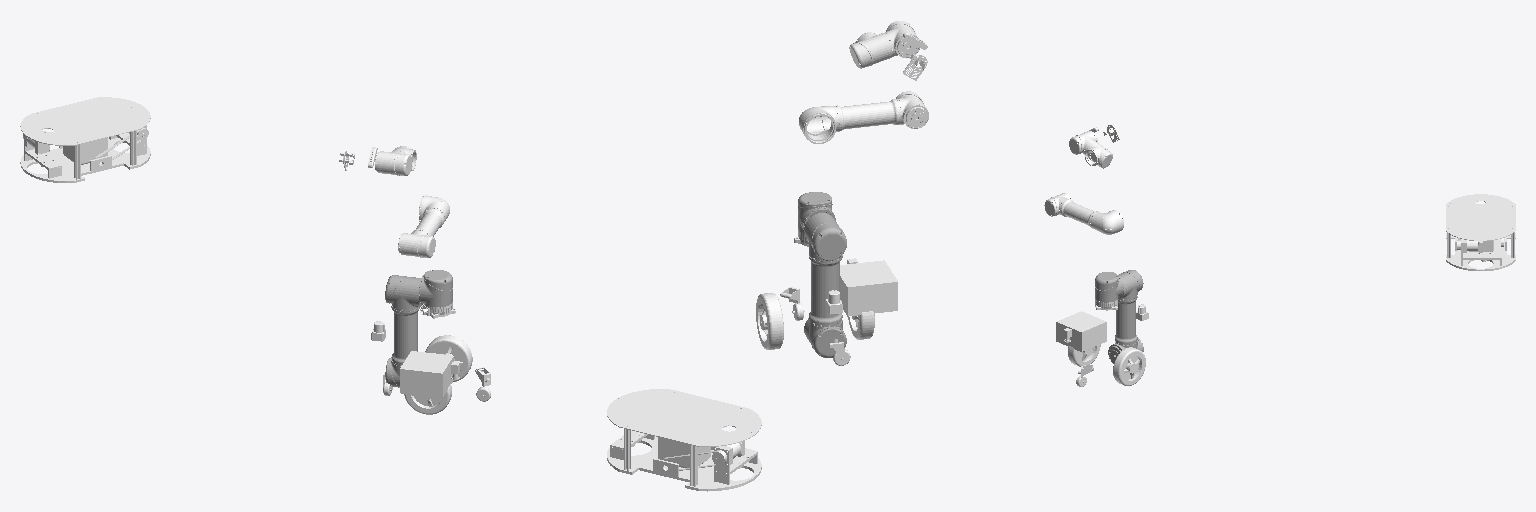
--- Render facts (derived) ---
Views: 3 orthographic renders of the robot side by side, from view 1: azimuth 30°, elevation 25°; view 2: azimuth 150°, elevation 25°; view 3: azimuth 270°, elevation 25°.
Robot: test_model — 31 links, 30 joints (12 revolute, 2 prismatic, 16 fixed); root link virtual_link; default pose: every joint at zero.
Visible links, largest first — view 1: base_link, link2, pc_link, link3, link1, right_link, link5, left_link; view 2: base_link, link2, link3, pc_link, right_link, link4, link1, link5, left_link; view 3: base_link, link2, link3, pc_link, right_link, link1, link4.
Boxes of the visible links, left/top/right/bottom form: base_link: left=20, top=97, right=150, bottom=182; link2: left=385, top=275, right=422, bottom=387; pc_link: left=400, top=351, right=453, bottom=397; link3: left=398, top=195, right=449, bottom=257; link1: left=419, top=270, right=452, bottom=314; right_link: left=425, top=335, right=472, bottom=381; link5: left=375, top=151, right=411, bottom=175; left_link: left=404, top=384, right=451, bottom=414; base_link: left=607, top=389, right=761, bottom=491; link2: left=804, top=213, right=846, bottom=357; link3: left=799, top=91, right=928, bottom=143; pc_link: left=840, top=260, right=897, bottom=316; right_link: left=756, top=293, right=783, bottom=349; link4: left=849, top=32, right=892, bottom=68; link1: left=798, top=192, right=835, bottom=243; link5: left=885, top=21, right=919, bottom=57; left_link: left=848, top=311, right=874, bottom=339; base_link: left=1446, top=194, right=1515, bottom=270; link2: left=1108, top=270, right=1143, bottom=363; link3: left=1044, top=193, right=1123, bottom=234; pc_link: left=1056, top=311, right=1106, bottom=351; right_link: left=1113, top=347, right=1145, bottom=385; link1: left=1095, top=272, right=1123, bottom=308; link4: left=1084, top=141, right=1112, bottom=168.
Size in the robot's own frame: 1.04 by 2.37 by 1.22 metres.
20 mesh visuals loaded from 21 distinct referenced files (20 binary STL); not drawn: 1 (reference not matched to a file when rendering).

robot.urdf — test_model:
<?xml version="1.0" encoding="utf-8"?>
<!-- =================================================================================== -->
<!-- |    This document was autogenerated by xacro from test_agv_arm.xacro             | -->
<!-- |    EDITING THIS FILE BY HAND IS NOT RECOMMENDED                                 | -->
<!-- =================================================================================== -->
<robot name="test_model">
  <!-- T265 Fisheye:

  gazebo_ros_camera supports only plumb_bob
  D: [-0.007419134024530649, 0.041209351271390915, -0.03811917081475258, 0.006366158835589886, 0.0]

  <distortionK1>-0.007419134024530649</distortionK1>
  <distortionK2>0.041209351271390915</distortionK2>
  <distortionK3>-0.03811917081475258</distortionK3>
  <distortionT1>0.006366158835589886</distortionT1>
  <distortionT2>0.0</distortionT2>

       [fx'  0  cx' Tx]
   P = [ 0  fy' cy' Ty]
       [ 0   0   1   0]

   P : [ 285.5480041503906, 0.0, 416.00531005859375, 0.0,
         0.0, 285.3793029785156, 403.38909912109375, 0.0,
         0.0, 0.0, 1.0, 0.0 ]

  <CxPrime>416.00531005859375</CxPrime>

       [fx  0 cx]
   K = [ 0 fy cy]
       [ 0  0  1]

   K : [ 285.5480041503906, 0.0, 416.00531005859375,
         0.0, 285.3793029785156, 403.38909912109375,
         0.0, 0.0, 1.0]

  <Cx>16.00531005859375</Cx>
  <Cy>403.38909912109375</Cy>

  -->
  <!-- INTEL REALSENSE T265 -->
  <!-- INTEL REALSENSE D435 -->
  <!-- INTEL REALSENSE R200 -->
  <link name="virtual_link">
    </link>
  <joint name="virtual_joint" type="fixed">
    <origin rpy="0 0 0" xyz="0. 0. 0."/>
    <parent link="virtual_link"/>
    <child link="base_link"/>
    <axis xyz="0 0 0"/>
  </joint>
  <link name="base_link">
    <inertial>
      <origin rpy="0 0 0" xyz="0.570341970178263 -1.88528825872454 -0.303668536274056"/>
      <mass value="15.35773705728221"/>
      <inertia ixx="0.0789888195141757" ixy="0.0296735251325005" ixz="6.86804058744454E-05" iyy="0.0636306474316625" iyz="-6.67380007365903E-05" izz="0.111507797834734"/>
    </inertial>
    <visual>
      <origin rpy="0 0 0" xyz="0 0 0"/>
      <geometry>
        <mesh filename="package://agv_arm/meshes/base_link.STL"/>
      </geometry>
      <material name="">
        <color rgba="1 1 1 1"/>
      </material>
    </visual>
    <collision>
      <origin rpy="0 0 0" xyz="0 0 0"/>
      <geometry>
        <mesh filename="package://agv_arm/meshes/base_link.STL"/>
      </geometry>
    </collision>
  </link>
  <link name="left_link">
    <inertial>
      <origin rpy="0 0 0" xyz="-3.35147465335695E-11 -2.9989711491929E-08 -0.00348654259039582"/>
      <mass value="1.04303512282038"/>
      <inertia ixx="0.00314520431907286" ixy="-1.69296163459592E-13" ixz="1.16373146619381E-08" iyy="0.00314538157747688" iyz="7.37806581238218E-11" izz="0.00586701765374411"/>
    </inertial>
    <visual>
      <origin rpy="0 0 0" xyz="0 0 0"/>
      <geometry>
        <mesh filename="package://agv_arm/meshes/left_link.STL"/>
      </geometry>
      <material name="">
        <color rgba="1 1 1 1"/>
      </material>
    </visual>
    <collision>
      <origin rpy="0 0 0" xyz="0 0 0"/>
      <geometry>
        <mesh filename="package://agv_arm/meshes/left_link.STL"/>
      </geometry>
    </collision>
  </link>
  <joint name="left_joint" type="revolute">
    <origin rpy="1.5707963267949 -0.0872664625997168 -0.785398163397436" xyz="0.453993383404549 -2.00158044618336 -0.34097136988763"/>
    <parent link="base_link"/>
    <child link="left_link"/>
    <axis xyz="0 0 -1"/>
    <limit effort="1" lower="-1" upper="1" velocity="1"/>
  </joint>
  <link name="right_link">
    <inertial>
      <origin rpy="0 0 0" xyz="-3.35149685781744E-11 -2.99897112143732E-08 -0.00348654259039594"/>
      <mass value="1.04303512282037"/>
      <inertia ixx="0.00314520431907283" ixy="-1.69297681342634E-13" ixz="1.16373147203766E-08" iyy="0.00314538157747685" iyz="7.37806865299187E-11" izz="0.00586701765374405"/>
    </inertial>
    <visual>
      <origin rpy="0 0 0" xyz="0 0 0"/>
      <geometry>
        <mesh filename="package://agv_arm/meshes/right_link.STL"/>
      </geometry>
      <material name="">
        <color rgba="1 1 1 1"/>
      </material>
    </visual>
    <collision>
      <origin rpy="0 0 0" xyz="0 0 0"/>
      <geometry>
        <mesh filename="package://agv_arm/meshes/right_link.STL"/>
      </geometry>
    </collision>
  </link>
  <joint name="right_joint" type="revolute">
    <origin rpy="1.5707963267949 -0.0872664625997167 2.35619449019234" xyz="0.686631514414924 -1.76894231517299 -0.340971369887628"/>
    <parent link="base_link"/>
    <child link="right_link"/>
    <axis xyz="0 0 -1"/>
    <limit effort="1" lower="-1" upper="1" velocity="1"/>
  </joint>
  <link name="lidar_link">
    <inertial>
      <origin rpy="0 0 0" xyz="-0.000296153234327745 1.12836329169141E-09 -0.0204717812660532"/>
      <mass value="0.131588919004472"/>
      <inertia ixx="7.14622431639405E-05" ixy="3.31964390668676E-12" ixz="8.65350822911068E-07" iyy="7.23109738477428E-05" iyz="-2.4711482954829E-12" izz="4.46765670225869E-05"/>
    </inertial>
    <visual>
      <origin rpy="0 0 0" xyz="0 0 0"/>
      <geometry>
        <mesh filename="package://agv_arm/meshes/lidar_link.STL"/>
      </geometry>
      <material name="">
        <color rgba="1 1 1 1"/>
      </material>
    </visual>
    <collision>
      <origin rpy="0 0 0" xyz="0 0 0"/>
      <geometry>
        <mesh filename="package://agv_arm/meshes/lidar_link.STL"/>
      </geometry>
    </collision>
  </link>
  <joint name="lidar_joint" type="fixed">
    <origin rpy="0 0 2.35619449021312" xyz="0.392951119656292 -1.70790005142473 -0.152629369887627"/>
    <parent link="base_link"/>
    <child link="lidar_link"/>
    <axis xyz="0 0 0"/>
  </joint>
  <link name="pwr_link">
    <inertial>
      <origin rpy="0 0 0" xyz="0.0149998988087228 0.0149999922703186 0.0302002587155129"/>
      <mass value="0.0494935351719684"/>
      <inertia ixx="2.25637713562706E-05" ixy="1.12310101294322E-11" ixz="1.59879773971505E-10" iyy="2.25636840533923E-05" iyz="1.00765741349493E-11" izz="6.57719217809585E-06"/>
    </inertial>
    <visual>
      <origin rpy="0 0 0" xyz="0 0 0"/>
      <geometry>
        <mesh filename="package://agv_arm/meshes/pwr_link.STL"/>
      </geometry>
      <material name="">
        <color rgba="1 1 1 1"/>
      </material>
    </visual>
    <collision>
      <origin rpy="0 0 0" xyz="0 0 0"/>
      <geometry>
        <mesh filename="package://agv_arm/meshes/pwr_link.STL"/>
      </geometry>
    </collision>
  </link>
  <joint name="pwr_joint" type="fixed">
    <origin rpy="0 0 -0.785398163397464" xyz="0.537047851449455 -2.06195108550525 -0.202629369887631"/>
    <parent link="base_link"/>
    <child link="pwr_link"/>
    <axis xyz="0 0 0"/>
  </joint>
  <link name="pc_link">
    <inertial>
      <origin rpy="0 0 0" xyz="0.0900000000000007 0.0899999999999996 0.0549999999999987"/>
      <mass value="3.564"/>
      <inertia ixx="0.0132165" ixy="2.16840434497101E-18" ixz="4.48431349330871E-17" iyy="0.0132165" iyz="3.91188156878237E-17" izz="0.0192456"/>
    </inertial>
    <visual>
      <origin rpy="0 0 0" xyz="0 0 0"/>
      <geometry>
        <mesh filename="package://agv_arm/meshes/pc_link.STL"/>
      </geometry>
      <material name="">
        <color rgba="1 1 1 1"/>
      </material>
    </visual>
    <collision>
      <origin rpy="0 0 0" xyz="0 0 0"/>
      <geometry>
        <mesh filename="package://agv_arm/meshes/pc_link.STL"/>
      </geometry>
    </collision>
  </link>
  <joint name="pc_joint" type="fixed">
    <origin rpy="0 0 -0.785398163397444" xyz="0.443428957278179 -1.8856571096602 -0.202629369887629"/>
    <parent link="base_link"/>
    <child link="pc_link"/>
    <axis xyz="0 0 0"/>
  </joint>
  <link name="arm_base_link">
    <inertial>
      <origin rpy="0 0 0" xyz="0.00490052804003327 -0.00481017320563626 -0.021066541781232"/>
      <mass value="0.186287727416132"/>
      <inertia ixx="0.000289688079345907" ixy="2.81201318343738E-05" ixz="1.49660636248943E-06" iyy="0.00029261821718986" iyz="-1.97623307664118E-06" izz="0.000520691140482188"/>
    </inertial>
    <visual>
      <origin rpy="0 0 0" xyz="0 0 0"/>
      <geometry>
        <mesh filename="package://agv_arm/meshes/arm_base_link.STL"/>
      </geometry>
      <material name="">
        <color rgba="1 1 1 1"/>
      </material>
    </visual>
    <collision>
      <origin rpy="0 0 0" xyz="0 0 0"/>
      <geometry>
        <mesh filename="package://agv_arm/meshes/arm_base_link.STL"/>
      </geometry>
    </collision>
  </link>
  <joint name="arm_base_joint" type="fixed">
    <origin rpy="0 0 0.785398163397444" xyz="0.0900000000000019 0.0900000000000007 0.148999999999999"/>
    <parent link="pc_link"/>
    <child link="arm_base_link"/>
    <axis xyz="0 0 0"/>
  </joint>
  <link name="link1">
    <inertial>
      <origin rpy="0 0 0" xyz="-0.0580836115244474 -0.00236345578723585 3.37147547622152E-05"/>
      <mass value="0.0061405847784087"/>
      <inertia ixx="0.00291567801316754" ixy="-3.39495643450857E-05" ixz="3.86124786793925E-06" iyy="0.00431965883928423" iyz="-2.13734994359855E-07" izz="0.0043496458043079"/>
    </inertial>
    <visual>
      <origin rpy="0 0 0" xyz="0 0 0"/>
      <geometry>
        <mesh filename="package://agv_arm/meshes/link1.STL"/>
      </geometry>
      <material name="">
        <color rgba="0.752941176470588 0.752941176470588 0.752941176470588 1"/>
      </material>
    </visual>
    <collision>
      <origin rpy="0 0 0" xyz="0 0 0"/>
      <geometry>
        <mesh filename="package://agv_arm/meshes/link1.STL"/>
      </geometry>
    </collision>
  </link>
  <joint name="joint1" type="revolute">
    <origin rpy="2.35619449019234 1.5707963267949 0" xyz="0 0 0.0146999999999999"/>
    <parent link="arm_base_link"/>
    <child link="link1"/>
    <axis xyz="-1 0 0"/>
    <limit effort="1" lower="-1" upper="1" velocity="1"/>
  </joint>
  <link name="link2">
    <inertial>
      <origin rpy="0 0 0" xyz="-0.0584430720432187 -0.187149982610973 8.10917111238041E-10"/>
      <mass value="0.00791948779547"/>
      <inertia ixx="0.12031941503411" ixy="-4.02923389004673E-07" ixz="-8.31287816360771E-12" iyy="0.00991248720502792" iyz="-2.05172273895127E-05" izz="0.123189953162705"/>
    </inertial>
    <visual>
      <origin rpy="0 0 0" xyz="0 0 0"/>
      <geometry>
        <mesh filename="package://agv_arm/meshes/link2.STL"/>
      </geometry>
      <material name="">
        <color rgba="0.752941176470588 0.752941176470588 0.752941176470588 1"/>
      </material>
    </visual>
    <collision>
      <origin rpy="0 0 0" xyz="0 0 0"/>
      <geometry>
        <mesh filename="package://agv_arm/meshes/link2.STL"/>
      </geometry>
    </collision>
  </link>
  <joint name="joint2" type="revolute">
    <origin rpy="-3.14113476949727 0 1.5707963267949" xyz="-0.0604999999999947 -0.0773999999999913 0"/>
    <parent link="link1"/>
    <child link="link2"/>
    <axis xyz="-1 0 0"/>
    <limit effort="1" lower="-1" upper="11" velocity="1"/>
  </joint>
  <link name="link3">
    <inertial>
      <origin rpy="0 0 0" xyz="0.00327690020152493 0.230716519226641 -4.09806421997061E-06"/>
      <mass value="0.0056494299506339"/>
      <inertia ixx="0.0317706162407525" ixy="0.00116167025812186" ixz="-2.34389404698589E-07" iyy="0.00289552973549577" iyz="8.33772344844123E-07" izz="0.032454009902352"/>
    </inertial>
    <visual>
      <origin rpy="0 0 0" xyz="0 0 0"/>
      <geometry>
        <mesh filename="package://agv_arm/meshes/link3.STL"/>
      </geometry>
      <material name="">
        <color rgba="1 1 1 1"/>
      </material>
    </visual>
    <collision>
      <origin rpy="0 0 0" xyz="0 0 0"/>
      <geometry>
        <mesh filename="package://agv_arm/meshes/link3.STL"/>
      </geometry>
    </collision>
  </link>
  <joint name="joint3" type="revolute">
    <origin rpy="-0.523598775598282 0 -3.14159265358977" xyz="0.0776000000000159 -0.374299999999997 0"/>
    <parent link="link2"/>
    <child link="link3"/>
    <axis xyz="1 0 0"/>
    <limit effort="1" lower="-1" upper="1" velocity="1"/>
  </joint>
  <link name="link4">
    <inertial>
      <origin rpy="0 0 0" xyz="0.115612509083277 5.70973726401469E-05 -0.000182575257787754"/>
      <mass value="0.00840412488577877"/>
      <inertia ixx="0.0015998307768477" ixy="-1.14351554232871E-06" ixz="3.84649608459235E-06" iyy="0.00154970777246241" iyz="0.000172857355121832" izz="0.000948731553754075"/>
    </inertial>
    <visual>
      <origin rpy="0 0 0" xyz="0 0 0"/>
      <geometry>
        <mesh filename="package://agv_arm/meshes/link4.STL"/>
      </geometry>
      <material name="">
        <color rgba="1 1 1 1"/>
      </material>
    </visual>
    <collision>
      <origin rpy="0 0 0" xyz="0 0 0"/>
      <geometry>
        <mesh filename="package://agv_arm/meshes/link4.STL"/>
      </geometry>
    </collision>
  </link>
  <joint name="joint4" type="revolute">
    <origin rpy="0.524056659690805 0 0" xyz="-0.00230000000000108 0.343 0"/>
    <parent link="link3"/>
    <child link="link4"/>
    <axis xyz="-1 0 0"/>
    <limit effort="1" lower="-1" upper="1" velocity="1"/>
  </joint>
  <link name="link5">
    <inertial>
      <origin rpy="0 0 0" xyz="0.115612522026538 -7.97844709510276E-06 0.000191136766434452"/>
      <mass value="0.00140412058075631"/>
      <inertia ixx="0.00159982898122317" ixy="1.09937156347949E-07" ixz="-4.01175687485538E-06" iyy="0.00159587978369747" iyz="-2.27476393969293E-07" izz="0.000902559738954227"/>
    </inertial>
    <visual>
      <origin rpy="0 0 0" xyz="0 0 0"/>
      <geometry>
        <mesh filename="package://agv_arm/meshes/link5.STL"/>
      </geometry>
      <material name="">
        <color rgba="1 1 1 1"/>
      </material>
    </visual>
    <collision>
      <origin rpy="0 0 0" xyz="0 0 0"/>
      <geometry>
        <mesh filename="package://agv_arm/meshes/link5.STL"/>
      </geometry>
    </collision>
  </link>
  <joint name="joint5" type="revolute">
    <origin rpy="1.57079632679492 1.30945482308825 1.5707963267949" xyz="0.117 -0.000594247621558908 0.00222189083181923"/>
    <parent link="link4"/>
    <child link="link5"/>
    <axis xyz="-1 0 0"/>
    <limit effort="1" lower="-1" upper="1" velocity="1"/>
  </joint>
  <link name="link6">
    <inertial>
      <origin rpy="0 0 0" xyz="0.082781538536749 0.00116561170708307 -0.00277363175660617"/>
      <mass value="0.000842570079043402"/>
      <inertia ixx="5.77500003108311E-05" ixy="-5.96879750438297E-07" ixz="9.85758548153898E-06" iyy="0.000135210838958127" iyz="-3.22108352800688E-08" izz="0.000140044733157609"/>
    </inertial>
    <visual>
      <origin rpy="0 0 0" xyz="0 0 0"/>
      <geometry>
        <mesh filename="package://agv_arm/meshes/link6.STL"/>
      </geometry>
      <material name="">
        <color rgba="1 1 1 1"/>
      </material>
    </visual>
    <collision>
      <origin rpy="0 0 0" xyz="0 0 0"/>
      <geometry>
        <mesh filename="package://agv_arm/meshes/link6.STL"/>
      </geometry>
    </collision>
  </link>
  <joint name="joint6" type="revolute">
    <origin rpy="2.4586 1.5708 0" xyz="0.1172 0.0011441 0.20381"/>
    <parent link="link5"/>
    <child link="link6"/>
    <axis xyz="1 0 0"/>
    <limit effort="1" lower="-1" upper="1" velocity="1"/>
  </joint>
  <link name="d415_link">
    <inertial>
      <origin rpy="0 0 0" xyz="-8.80002689940262E-06 -0.0111114286769177 -0.00437440361856423"/>
      <mass value="0.0164396913357332"/>
      <inertia ixx="1.36517854018282E-06" ixy="-1.48329616184955E-11" ixz="1.86196491500615E-09" iyy="1.29701074407964E-05" iyz="-4.40746723585632E-08" izz="1.31174062505006E-05"/>
    </inertial>
    <visual>
      <origin rpy="1.57 0 1.57" xyz="0 0 0"/>
      <geometry>
        <mesh filename="package://agv_arm/meshes/d415_link.STL"/>
      </geometry>
      <material name="">
        <color rgba="1 1 1 1"/>
      </material>
    </visual>
    <collision>
      <origin rpy="0 0 0" xyz="0 0 0"/>
      <geometry>
        <mesh filename="package://agv_arm/meshes/d415_link.STL"/>
      </geometry>
    </collision>
  </link>
  <joint name="d415_joint" type="fixed">
    <!-- //// origin xyz="0.121610184391361 0.00101183482587874 -0.0440692419074167" rpy="1.5707963267949 0 -1.57079632679491" -->
    <!-- origin xyz="0.121610184391361 0.00101183482587874 -0.0440692419074167" rpy="3.1415926 1.57079632679491 1.57079632679491" -->
    <origin rpy="0 3.1415 0" xyz="0.121610184391361 0.00101183482587874 -0.0440692419074167"/>
    <parent link="link6"/>
    <child link="d415_link"/>
    <axis xyz="0 0 0"/>
  </joint>
  <!-- ////////////// D415 //////////////  -->
  <gazebo reference="d415_link">
    <sensor name="camera" type="depth">
      <always_on>true</always_on>
      <update_rate>30.0</update_rate>
      <camera>
        <horizontal_fov>1.047</horizontal_fov>
        <image>
          <format>R8G8B8</format>
          <width>640</width>
          <height>480</height>
        </image>
        <clip>
          <near>0.05</near>
          <far>8.0</far>
        </clip>
      </camera>
      <plugin filename="libgazebo_ros_openni_kinect.so" name="kinect_camera_controller">
        <cameraName>camera</cameraName>
        <alwaysOn>true</alwaysOn>
        <updateRate>30</updateRate>
        <imageTopicName>rgb/image_raw</imageTopicName>
        <depthImageTopicName>depth/image_raw</depthImageTopicName>
        <pointCloudTopicName>depth/points</pointCloudTopicName>
        <cameraInfoTopicName>rgb/camera_info</cameraInfoTopicName>
        <depthImageCameraInfoTopicName>depth/camera_info</depthImageCameraInfoTopicName>
        <frameName>camera_frame_optical</frameName>
        <baseline>0.1</baseline>
        <distortion_k1>0.0</distortion_k1>
        <distortion_k2>0.0</distortion_k2>
        <distortion_k3>0.0</distortion_k3>
        <distortion_t1>0.0</distortion_t1>
        <distortion_t2>0.0</distortion_t2>
        <pointCloudCutoff>0.4</pointCloudCutoff>
      </plugin>
    </sensor>
  </gazebo>
  <link name="finger_link1">
    <inertial>
      <origin rpy="0 0 0" xyz="0.0187104737539552 0.0170303895104817 -0.000368846804288392"/>
      <mass value="0.0052013516158447"/>
      <inertia ixx="1.83812760924895E-07" ixy="-2.06102890915209E-08" ixz="-2.81175606748554E-10" iyy="1.74961047766009E-06" iyz="7.48427007708597E-11" izz="1.69075281683777E-06"/>
    </inertial>
    <visual>
      <origin rpy="0 0 0" xyz="0 0 0"/>
      <geometry>
        <mesh filename="package://agv_arm/meshes/finger_link1.STL"/>
      </geometry>
      <material name="">
        <color rgba="1 1 1 1"/>
      </material>
    </visual>
    <collision>
      <origin rpy="0 0 0" xyz="0 0 0"/>
      <geometry>
        <mesh filename="package://agv_arm/meshes/finger_link1.STL"/>
      </geometry>
    </collision>
  </link>
  <joint name="finger_joint1" type="prismatic">
    <origin rpy="0 0 0" xyz="0 0 0"/>
    <parent link="link6"/>
    <child link="finger_link1"/>
    <axis xyz="0 -1 0"/>
    <limit effort="1" lower="-0.3" upper="0.3" velocity="1"/>
  </joint>
  <link name="finger_link2">
    <inertial>
      <origin rpy="0 0 0" xyz="0.0187104737539547 -0.0153951860375228 -0.000375520770545479"/>
      <mass value="0.00520135161584462"/>
      <inertia ixx="1.83812760924892E-07" ixy="2.06102890915583E-08" ixz="2.81175606698671E-10" iyy="1.74961047766003E-06" iyz="7.48427007720244E-11" izz="1.6907528168377E-06"/>
    </inertial>
    <visual>
      <origin rpy="0 0 0" xyz="0 0 0"/>
      <geometry>
        <mesh filename="package://agv_arm/meshes/finger_link2.STL"/>
      </geometry>
      <material name="">
        <color rgba="1 1 1 1"/>
      </material>
    </visual>
    <collision>
      <origin rpy="0 0 0" xyz="0 0 0"/>
      <geometry>
        <mesh filename="package://agv_arm/meshes/finger_link2.STL"/>
      </geometry>
    </collision>
  </link>
  <joint name="finger_joint2" type="prismatic">
    <origin rpy="0 0 0" xyz="0 0 0"/>
    <parent link="link6"/>
    <child link="finger_link2"/>
    <axis xyz="0 -1 0"/>
    <limit effort="1" lower="-0.3" upper="0.3" velocity="1"/>
  </joint>
  <link name="front_link1">
    <inertial>
      <origin rpy="0 0 0" xyz="0.00454938714218511 -0.015085259662572 -0.000170656801913083"/>
      <mass value="0.034500655949196"/>
      <inertia ixx="2.12981416033846E-05" ixy="5.75050325361881E-06" ixz="-2.10334644621663E-08" iyy="1.1496091748026E-05" iyz="4.74056732385186E-08" izz="2.38494390827886E-05"/>
    </inertial>
    <visual>
      <origin rpy="0 0 0" xyz="0 0 0"/>
      <geometry>
        <mesh filename="package://agv_arm/meshes/front_link1.STL"/>
      </geometry>
      <material name="">
        <color rgba="1 1 1 1"/>
      </material>
    </visual>
    <collision>
      <origin rpy="0 0 0" xyz="0 0 0"/>
      <geometry>
        <mesh filename="package://agv_arm/meshes/front_link1.STL"/>
      </geometry>
    </collision>
  </link>
  <joint name="front_joint1" type="revolute">
    <origin rpy="1.5708 0 -2.348" xyz="0.4146 -1.7543 -0.34847"/>
    <parent link="base_link"/>
    <child link="front_link1"/>
    <axis xyz="0 -1 0"/>
    <limit effort="1" lower="-1" upper="1" velocity="1"/>
  </joint>
  <link name="front_link2">
    <inertial>
      <origin rpy="0 0 0" xyz="-0.0124999976229834 -9.50171608060657E-11 -6.94045201310445E-08"/>
      <mass value="0.068707123461424"/>
      <inertia ixx="2.95185233018021E-05" ixy="-7.42208136188817E-12" ixz="2.12622845609782E-12" iyy="1.83159672228595E-05" iyz="-1.34415464249044E-12" izz="1.83150441372356E-05"/>
    </inertial>
    <visual>
      <origin rpy="0 0 0" xyz="0 0 0"/>
      <geometry>
        <mesh filename="package://agv_arm/meshes/front_link2.STL"/>
      </geometry>
      <material name="">
        <color rgba="1 1 1 1"/>
      </material>
    </visual>
    <collision>
      <origin rpy="0 0 0" xyz="0 0 0"/>
      <geometry>
        <mesh filename="package://agv_arm/meshes/front_link2.STL"/>
      </geometry>
    </collision>
  </link>
  <joint name="front_joint2" type="revolute">
    <origin rpy="0 1.56255281626515 0" xyz="0.0210289002174014 -0.0600000000000001 -0.0125352292752019"/>
    <parent link="front_link1"/>
    <child link="front_link2"/>
    <axis xyz="1 0 0"/>
    <limit effort="1" lower="-1" upper="1" velocity="1"/>
  </joint>
  <link name="back_link1">
    <inertial>
      <origin rpy="0 0 0" xyz="-0.00346069454949682 -0.0150852596625721 0.00297090233373076"/>
      <mass value="0.0345006559491962"/>
      <inertia ixx="2.25737904320763E-05" ixy="-4.06635819984328E-06" ixz="1.27582213248182E-06" iyy="1.1496091748026E-05" iyz="4.06635782467598E-06" izz="2.25737902540973E-05"/>
    </inertial>
    <visual>
      <origin rpy="0 0 0" xyz="0 0 0"/>
      <geometry>
        <mesh filename="package://agv_arm/meshes/back_link1.STL"/>
      </geometry>
      <material name="">
        <color rgba="1 1 1 1"/>
      </material>
    </visual>
    <collision>
      <origin rpy="0 0 0" xyz="0 0 0"/>
      <geometry>
        <mesh filename="package://agv_arm/meshes/back_link1.STL"/>
      </geometry>
    </collision>
  </link>
  <joint name="back_joint1" type="revolute">
    <origin rpy="1.5707963267949 0 0" xyz="0.726120836980145 -2.01632103140706 -0.348471369887631"/>
    <parent link="base_link"/>
    <child link="back_link1"/>
    <axis xyz="0 -1 0"/>
    <limit effort="1" lower="-1" upper="1" velocity="1"/>
  </joint>
  <link name="back_link2">
    <inertial>
      <origin rpy="0 0 0" xyz="0.0125000023770157 -9.50173828506706E-11 -6.94045209082006E-08"/>
      <mass value="0.0687071234614254"/>
      <inertia ixx="2.9518523301803E-05" ixy="-7.42208142249208E-12" ixz="2.12622844932155E-12" iyy="1.83159672228599E-05" iyz="-1.34415462039289E-12" izz="1.83150441372361E-05"/>
    </inertial>
    <visual>
      <origin rpy="0 0 0" xyz="0 0 0"/>
      <geometry>
        <mesh filename="package://agv_arm/meshes/back_link2.STL"/>
      </geometry>
      <material name="">
        <color rgba="1 1 1 1"/>
      </material>
    </visual>
    <collision>
      <origin rpy="0 0 0" xyz="0 0 0"/>
      <geometry>
        <mesh filename="package://agv_arm/meshes/back_link2.STL"/>
      </geometry>
    </collision>
  </link>
  <joint name="back_joint2" type="revolute">
    <origin rpy="0 -0.785398163397448 0" xyz="-0.0238798361309116 -0.0600000000000001 0.00571237418251203"/>
    <parent link="back_link1"/>
    <child link="back_link2"/>
    <axis xyz="1 0 0"/>
    <limit effort="1" lower="-1" upper="1" velocity="1"/>
  </joint>
  <transmission name="trans_left_joint">
    <type>transmission_interface/SimpleTransmission</type>
    <joint name="left_joint">
      <hardwareInterface>hardware_interface/PositionJointInterface</hardwareInterface>
    </joint>
    <actuator name="left_joint_motor">
      <hardwareInterface>hardware_interface/PositionJointInterface</hardwareInterface>
      <mechanicalReduction>1</mechanicalReduction>
    </actuator>
  </transmission>
  <transmission name="trans_right_joint">
    <type>transmission_interface/SimpleTransmission</type>
    <joint name="right_joint">
      <hardwareInterface>hardware_interface/PositionJointInterface</hardwareInterface>
    </joint>
    <actuator name="right_joint_motor">
      <hardwareInterface>hardware_interface/PositionJointInterface</hardwareInterface>
      <mechanicalReduction>1</mechanicalReduction>
    </actuator>
  </transmission>
  <transmission name="trans_joint1">
    <type>transmission_interface/SimpleTransmission</type>
    <joint name="joint1">
      <hardwareInterface>hardware_interface/PositionJointInterface</hardwareInterface>
    </joint>
    <actuator name="joint1_motor">
      <hardwareInterface>hardware_interface/PositionJointInterface</hardwareInterface>
      <mechanicalReduction>1</mechanicalReduction>
    </actuator>
  </transmission>
  <transmission name="trans_joint2">
    <type>transmission_interface/SimpleTransmission</type>
    <joint name="joint2">
      <hardwareInterface>hardware_interface/PositionJointInterface</hardwareInterface>
    </joint>
    <actuator name="joint2_motor">
      <hardwareInterface>hardware_interface/PositionJointInterface</hardwareInterface>
      <mechanicalReduction>1</mechanicalReduction>
    </actuator>
  </transmission>
  <transmission name="trans_joint3">
    <type>transmission_interface/SimpleTransmission</type>
    <joint name="joint3">
      <hardwareInterface>hardware_interface/PositionJointInterface</hardwareInterface>
    </joint>
    <actuator name="joint3_motor">
      <hardwareInterface>hardware_interface/PositionJointInterface</hardwareInterface>
      <mechanicalReduction>1</mechanicalReduction>
    </actuator>
  </transmission>
  <transmission name="trans_joint4">
    <type>transmission_interface/SimpleTransmission</type>
    <joint name="joint4">
      <hardwareInterface>hardware_interface/PositionJointInterface</hardwareInterface>
    </joint>
    <actuator name="joint4_motor">
      <hardwareInterface>hardware_interface/PositionJointInterface</hardwareInterface>
      <mechanicalReduction>1</mechanicalReduction>
    </actuator>
  </transmission>
  <transmission name="trans_joint5">
    <type>transmission_interface/SimpleTransmission</type>
    <joint name="joint5">
      <hardwareInterface>hardware_interface/PositionJointInterface</hardwareInterface>
    </joint>
    <actuator name="joint5_motor">
      <hardwareInterface>hardware_interface/PositionJointInterface</hardwareInterface>
      <mechanicalReduction>1</mechanicalReduction>
    </actuator>
  </transmission>
  <transmission name="trans_joint6">
    <type>transmission_interface/SimpleTransmission</type>
    <joint name="joint6">
      <hardwareInterface>hardware_interface/PositionJointInterface</hardwareInterface>
    </joint>
    <actuator name="joint6_motor">
      <hardwareInterface>hardware_interface/PositionJointInterface</hardwareInterface>
      <mechanicalReduction>1</mechanicalReduction>
    </actuator>
  </transmission>
  <transmission name="trans_finger_joint1">
    <type>transmission_interface/SimpleTransmission</type>
    <joint name="finger_joint1">
      <hardwareInterface>hardware_interface/PositionJointInterface</hardwareInterface>
    </joint>
    <actuator name="finger_joint1_motor">
      <hardwareInterface>hardware_interface/PositionJointInterface</hardwareInterface>
      <mechanicalReduction>1</mechanicalReduction>
    </actuator>
  </transmission>
  <transmission name="trans_finger_joint2">
    <type>transmission_interface/SimpleTransmission</type>
    <joint name="finger_joint2">
      <hardwareInterface>hardware_interface/PositionJointInterface</hardwareInterface>
    </joint>
    <actuator name="finger_joint2_motor">
      <hardwareInterface>hardware_interface/PositionJointInterface</hardwareInterface>
      <mechanicalReduction>1</mechanicalReduction>
    </actuator>
  </transmission>
  <transmission name="trans_front_joint1">
    <type>transmission_interface/SimpleTransmission</type>
    <joint name="front_joint1">
      <hardwareInterface>hardware_interface/PositionJointInterface</hardwareInterface>
    </joint>
    <actuator name="front_joint1_motor">
      <hardwareInterface>hardware_interface/PositionJointInterface</hardwareInterface>
      <mechanicalReduction>1</mechanicalReduction>
    </actuator>
  </transmission>
  <transmission name="trans_front_joint2">
    <type>transmission_interface/SimpleTransmission</type>
    <joint name="front_joint2">
      <hardwareInterface>hardware_interface/PositionJointInterface</hardwareInterface>
    </joint>
    <actuator name="front_joint2_motor">
      <hardwareInterface>hardware_interface/PositionJointInterface</hardwareInterface>
      <mechanicalReduction>1</mechanicalReduction>
    </actuator>
  </transmission>
  <transmission name="trans_back_joint1">
    <type>transmission_interface/SimpleTransmission</type>
    <joint name="back_joint1">
      <hardwareInterface>hardware_interface/PositionJointInterface</hardwareInterface>
    </joint>
    <actuator name="back_joint1_motor">
      <hardwareInterface>hardware_interface/PositionJointInterface</hardwareInterface>
      <mechanicalReduction>1</mechanicalReduction>
    </actuator>
  </transmission>
  <transmission name="trans_back_joint2">
    <type>transmission_interface/SimpleTransmission</type>
    <joint name="back_joint2">
      <hardwareInterface>hardware_interface/PositionJointInterface</hardwareInterface>
    </joint>
    <actuator name="back_joint2_motor">
      <hardwareInterface>hardware_interface/PositionJointInterface</hardwareInterface>
      <mechanicalReduction>1</mechanicalReduction>
    </actuator>
  </transmission>
  <gazebo>
    <plugin filename="libgazebo_ros_control.so" name="gazebo_ros_control">
      <robotNamespace>/</robotNamespace>
    </plugin>
  </gazebo>
  <!-- /////// Differential drive controller /////////// -->
  <gazebo>
    <plugin filename="libgazebo_ros_diff_drive.so" name="differential_drive_controller">
      <rosDebugLevel>Debug</rosDebugLevel>
      <publishWheelTF>false</publishWheelTF>
      <robotNamespace>/</robotNamespace>
      <publishTf>1</publishTf>
      <publishWheelJointState>false</publishWheelJointState>
      <alwaysOn>true</alwaysOn>
      <updateRate>100.0</updateRate>
      <leftJoint>left_joint</leftJoint>
      <rightJoint>right_joint</rightJoint>
      <wheelSeparation>0.322</wheelSeparation>
      <wheelDiameter>0.195</wheelDiameter>
      <broadcastTF>1</broadcastTF>
      <wheelTorque>30</wheelTorque>
      <wheelAcceleration>1.8</wheelAcceleration>
      <commandTopic>cmd_vel</commandTopic>
      <odometryFrame>odom</odometryFrame>
      <odometryTopic>odom</odometryTopic>
      <robotBaseFrame>base_link</robotBaseFrame>
    </plugin>
  </gazebo>
  <!-- TEST -->
  <!-- camera body, with origin at bottom screw mount -->
  <joint name="d435_joint" type="fixed">
    <origin rpy="0 0 0 " xyz="0 0 0.0"/>
    <parent link="d415_link"/>
    <child link="d435_bottom_screw_frame"/>
  </joint>
  <link name="d435_bottom_screw_frame"/>
  <joint name="d435_link_joint" type="fixed">
    <origin rpy="0 0 0" xyz="0 0.0175 0.0125"/>
    <parent link="d435_bottom_screw_frame"/>
    <child link="d435_link"/>
  </joint>
  <link name="d435_link">
    <visual>
      <origin rpy="1.57079632679 0 1.57079632679" xyz="0.0149 -0.0175 0"/>
      <geometry>
        <mesh filename="package://realsense_ros_gazebo/meshes/realsense_d435.stl"/>
      </geometry>
    </visual>
    <collision>
      <origin rpy="0 0 0" xyz="0 -0.0175 0"/>
      <geometry>
        <box size="0.02505 0.09 0.025"/>
      </geometry>
    </collision>
    <inertial>
      <mass value="0.564"/>
      <origin rpy="0 0 0" xyz="0 -0.0175 0"/>
      <inertia ixx="0.000410075" ixy="0" ixz="0" iyy="5.88676175e-05" iyz="0" izz="5.88676175e-05"/>
    </inertial>
  </link>
  <!-- camera depth joints and links -->
  <joint name="d435_depth_joint" type="fixed">
    <origin rpy="0 0 0" xyz="0 0 0"/>
    <parent link="d435_link"/>
    <child link="d435_depth_frame"/>
  </joint>
  <link name="d435_depth_frame"/>
  <joint name="d435_depth_optical_joint" type="fixed">
    <origin rpy="-1.57079632679 0 -1.57079632679" xyz="0 0 0"/>
    <parent link="d435_depth_frame"/>
    <child link="d435_depth_optical_frame"/>
  </joint>
  <link name="d435_depth_optical_frame"/>
  <!-- camera left IR joints and links -->
  <joint name="d435_left_ir_joint" type="fixed">
    <origin rpy="0 0 0" xyz="0 0.0 0"/>
    <parent link="d435_depth_frame"/>
    <child link="d435_left_ir_frame"/>
  </joint>
  <link name="d435_left_ir_frame"/>
  <joint name="d435_left_ir_optical_joint" type="fixed">
    <origin rpy="-1.57079632679 0 -1.57079632679" xyz="0 0 0"/>
    <parent link="d435_left_ir_frame"/>
    <child link="d435_left_ir_optical_frame"/>
  </joint>
  <link name="d435_left_ir_optical_frame"/>
  <!-- camera right IR joints and links -->
  <joint name="d435_right_ir_joint" type="fixed">
    <origin rpy="0 0 0" xyz="0 -0.05 0"/>
    <parent link="d435_depth_frame"/>
    <child link="d435_right_ir_frame"/>
  </joint>
  <link name="d435_right_ir_frame"/>
  <joint name="d435_right_ir_optical_joint" type="fixed">
    <origin rpy="-1.57079632679 0 -1.57079632679" xyz="0 0 0"/>
    <parent link="d435_right_ir_frame"/>
    <child link="d435_right_ir_optical_frame"/>
  </joint>
  <link name="d435_right_ir_optical_frame"/>
  <!-- camera color joints and links -->
  <joint name="d435_color_joint" type="fixed">
    <origin rpy="0 0 0" xyz="0 0.015 0"/>
    <parent link="d435_depth_frame"/>
    <child link="d435_color_frame"/>
  </joint>
  <link name="d435_color_frame"/>
  <joint name="d435_color_optical_joint" type="fixed">
    <origin rpy="-1.57079632679 0 -1.57079632679" xyz="0 0 0"/>
    <parent link="d435_color_frame"/>
    <child link="d435_color_optical_frame"/>
  </joint>
  <link name="d435_color_optical_frame"/>
  <!-- gazebo plugin -->
  <gazebo reference="d435_link">
    <self_collide>0</self_collide>
    <enable_wind>0</enable_wind>
    <kinematic>0</kinematic>
    <gravity>1</gravity>
    <mu2>1</mu2>
    <fdir1>0 0 0</fdir1>
    <kp>1e+13</kp>
    <kd>1</kd>
    <sensor name="d435_color" type="camera">
      <camera name="d435">
        <horizontal_fov>1.21125850088</horizontal_fov>
        <image>
          <width>640</width>
          <height>480</height>
          <format>RGB_INT8</format>
        </image>
        <clip>
          <near>0.1</near>
          <far>100</far>
        </clip>
        <noise>
          <type>gaussian</type>
          <mean>0.0</mean>
          <stddev>0.007</stddev>
        </noise>
      </camera>
      <always_on>1</always_on>
      <update_rate>30</update_rate>
      <visualize>1</visualize>
    </sensor>
    <sensor name="d435_ired1" type="camera">
      <camera name="d435">
        <horizontal_fov>1.4870205227</horizontal_fov>
        <image>
          <width>1280</width>
          <height>720</height>
          <format>L_INT8</format>
        </image>
        <clip>
          <near>0.1</near>
          <far>100</far>
        </clip>
        <noise>
          <type>gaussian</type>
          <mean>0.0</mean>
          <stddev>0.05</stddev>
        </noise>
      </camera>
      <always_on>1</always_on>
      <update_rate>90</update_rate>
      <visualize>0</visualize>
    </sensor>
    <sensor name="d435_ired2" type="camera">
      <camera name="d435">
        <horizontal_fov>1.4870205227</horizontal_fov>
        <image>
          <width>1280</width>
          <height>720</height>
          <format>L_INT8</format>
        </image>
        <clip>
          <near>0.1</near>
          <far>100</far>
        </clip>
        <noise>
          <type>gaussian</type>
          <mean>0.0</mean>
          <stddev>0.05</stddev>
        </noise>
      </camera>
      <always_on>1</always_on>
      <update_rate>90</update_rate>
      <visualize>0</visualize>
    </sensor>
    <sensor name="d435_depth" type="depth">
      <camera name="d435">
        <horizontal_fov>1.4870205227</horizontal_fov>
        <image>
          <width>1280</width>
          <height>720</height>
        </image>
        <clip>
          <near>0.1</near>
          <far>100</far>
        </clip>
        <noise>
          <type>gaussian</type>
          <mean>0.0</mean>
          <stddev>0.100</stddev>
        </noise>
      </camera>
      <always_on>1</always_on>
      <update_rate>90</update_rate>
      <visualize>0</visualize>
    </sensor>
  </gazebo>
  <gazebo>
    <plugin filename="librealsense_gazebo_plugin.so" name="d435">
      <prefix>d435_</prefix>
      <depthUpdateRate>10</depthUpdateRate>
      <colorUpdateRate>10</colorUpdateRate>
      <infraredUpdateRate>10</infraredUpdateRate>
      <depthTopicName>depth/image_raw</depthTopicName>
      <depthCameraInfoTopicName>depth/camera_info</depthCameraInfoTopicName>
      <colorTopicName>color/image_raw</colorTopicName>
      <colorCameraInfoTopicName>color/camera_info</colorCameraInfoTopicName>
      <infrared1TopicName>infra1/image_raw</infrared1TopicName>
      <infrared1CameraInfoTopicName>infra1/camera_info</infrared1CameraInfoTopicName>
      <infrared2TopicName>infra2/image_raw</infrared2TopicName>
      <infrared2CameraInfoTopicName>infra2/camera_info</infrared2CameraInfoTopicName>
      <colorOpticalframeName>d435_color_optical_frame</colorOpticalframeName>
      <depthOpticalframeName>d435_depth_optical_frame</depthOpticalframeName>
      <infrared1OpticalframeName>d435_infrared1_optical_frame</infrared1OpticalframeName>
      <infrared2OpticalframeName>d435_infrared2_optical_frame</infrared2OpticalframeName>
      <rangeMinDepth>0.2</rangeMinDepth>
      <rangeMaxDepth>10.0</rangeMaxDepth>
      <pointCloud>false</pointCloud>
      <pointCloudTopicName>depth/color/points</pointCloudTopicName>
      <pointCloudCutoff>0.25</pointCloudCutoff>
      <pointCloudCutoffMax>9.0</pointCloudCutoffMax>
    </plugin>
  </gazebo>
</robot>
